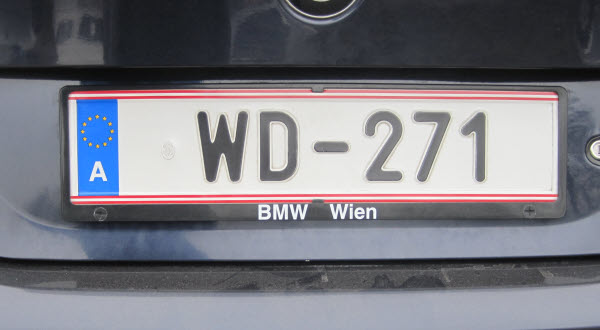license_plate: (67, 90, 560, 204)
